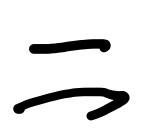eqv: (13, 39, 130, 120)
